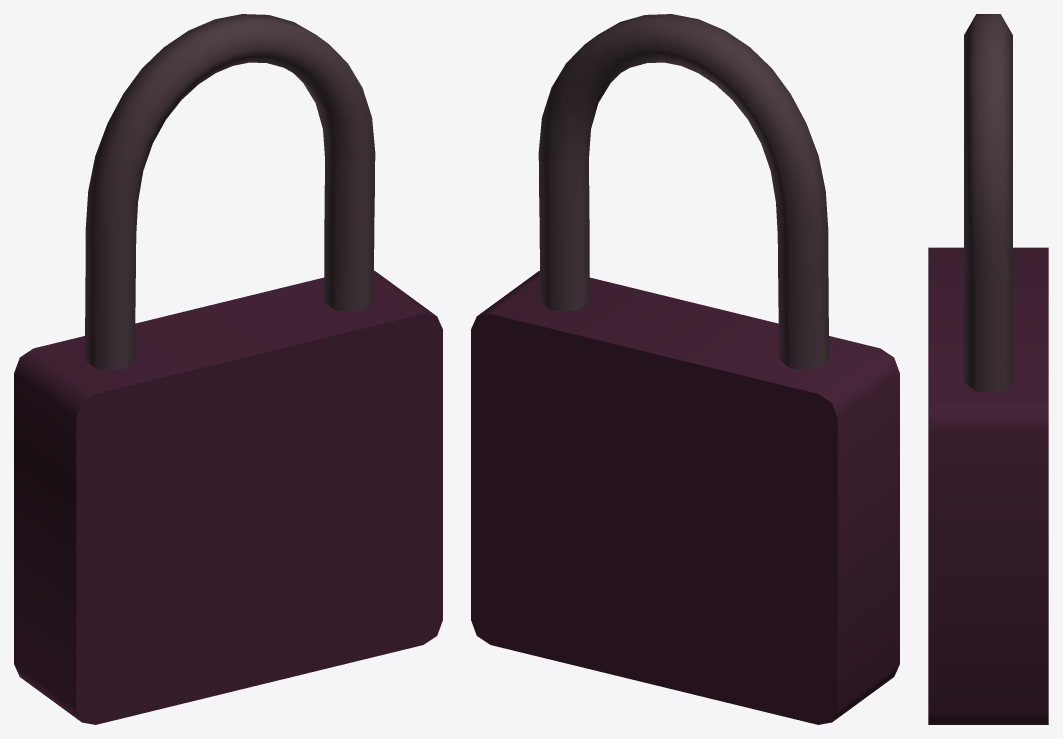
Rendered from cadeado.fbx.
3 renders of one model, left to right at view 1: azimuth 30°, elevation 25°; view 2: azimuth 150°, elevation 25°; view 3: azimuth 270°, elevation 25°, orthographic. The views are drawn at different scales.
Visible parts, largest first — view 1: cadeado; view 2: cadeado; view 3: cadeado.
Boxes of the visible parts, box(x1,y1,x2,y2) form: cadeado: box(14, 14, 442, 724); cadeado: box(471, 14, 899, 724); cadeado: box(928, 14, 1048, 724).
Size of the model in its own units: 6.13 by 10.22 by 1.8.
